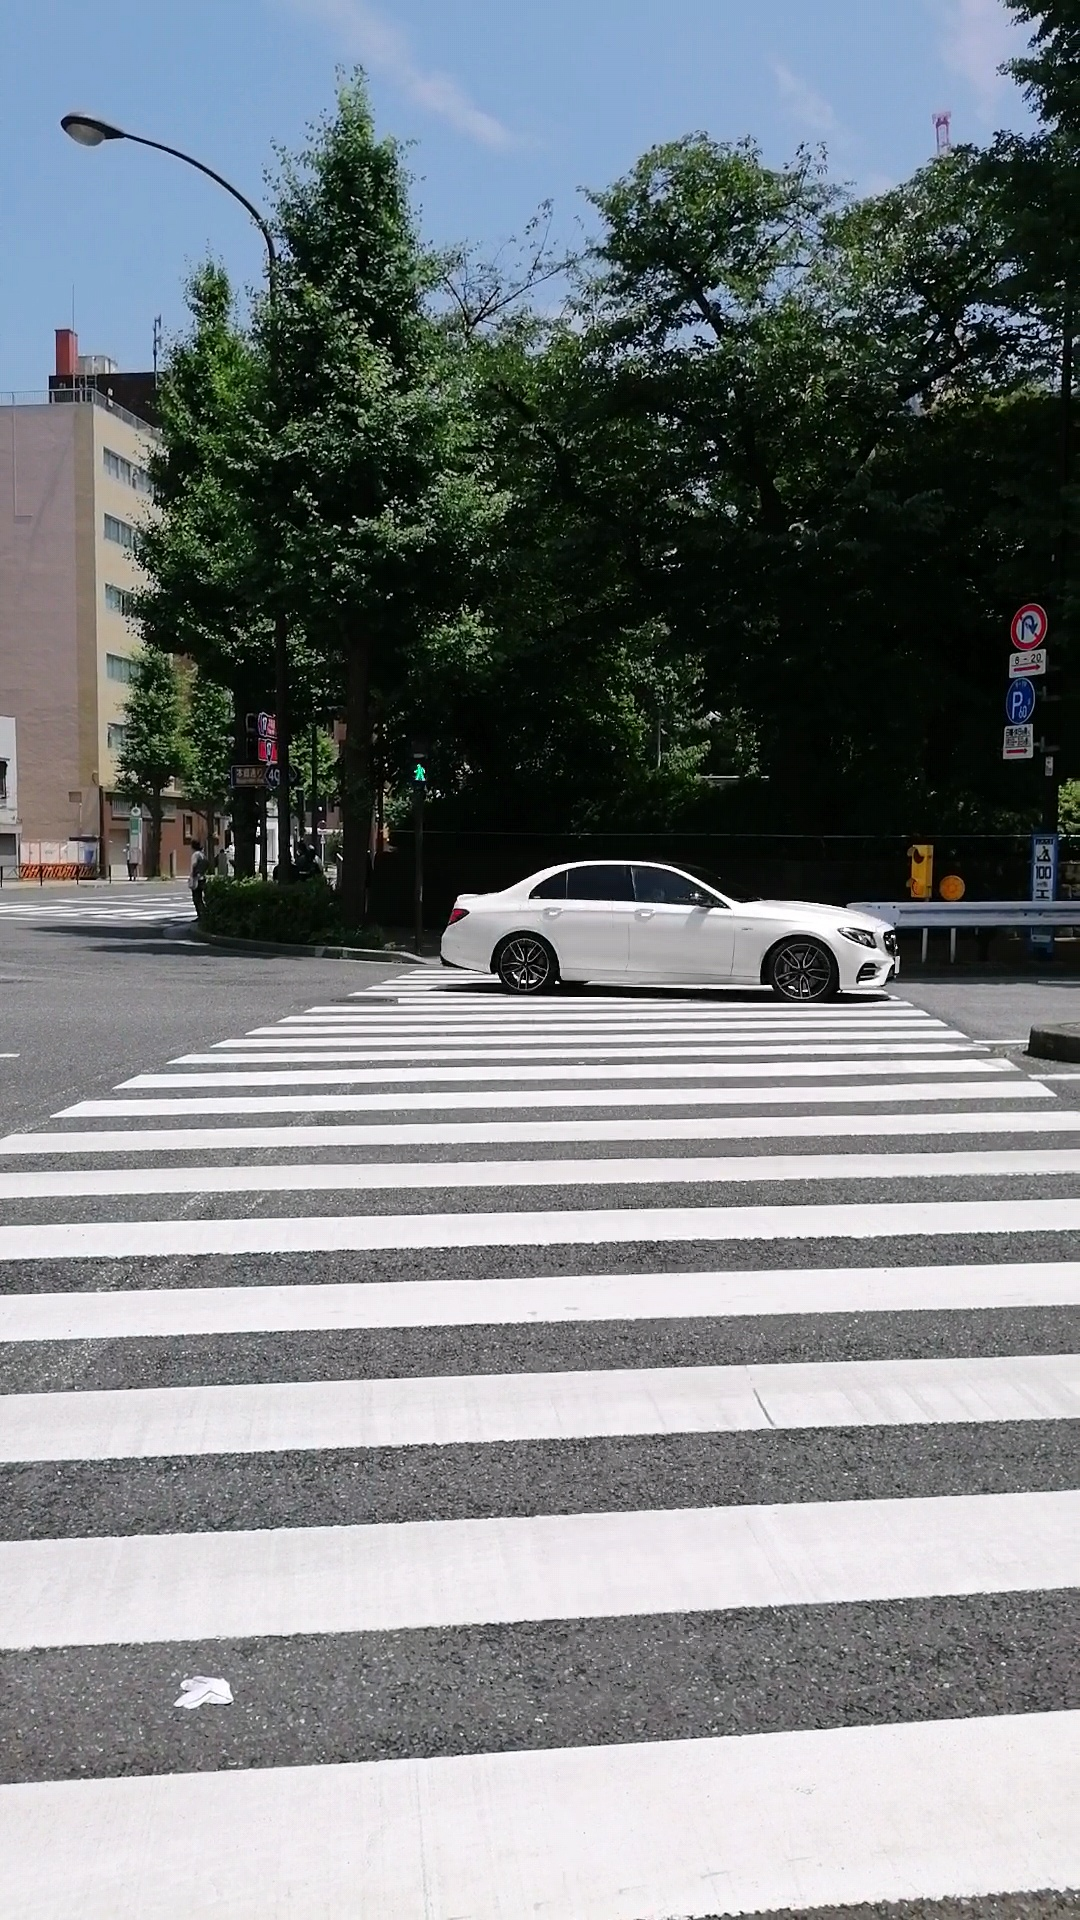green: (407, 735, 433, 786)
